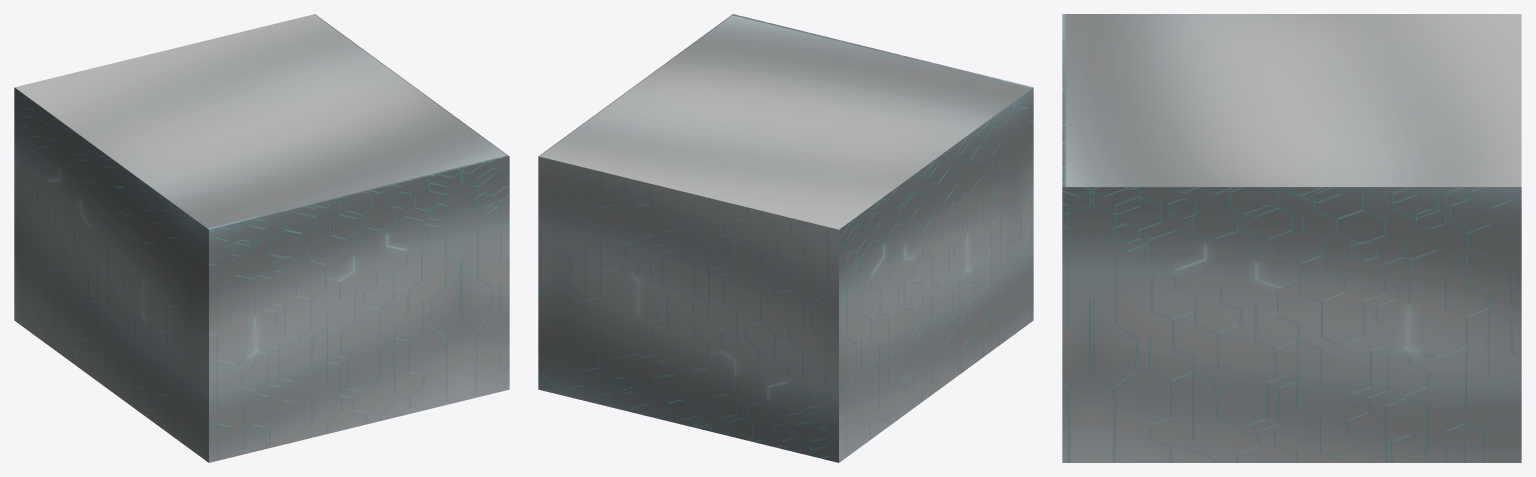
3 views of the same model, side by side, from view 1: azimuth 30°, elevation 25°; view 2: azimuth 150°, elevation 25°; view 3: azimuth 270°, elevation 25° (orthographic). The views are drawn at different scales.
Visible parts, largest first — view 1: BoxCube; view 2: BoxCube; view 3: BoxCube.
Part boxes in pixels (x1=…): BoxCube: x1=14, y1=14, x2=509, y2=462; BoxCube: x1=538, y1=14, x2=1033, y2=462; BoxCube: x1=1062, y1=14, x2=1521, y2=462.
Bounding box in the file's own units: 21.22 × 15.74 × 23.78.
Materials: 1 (1 with a texture image).
